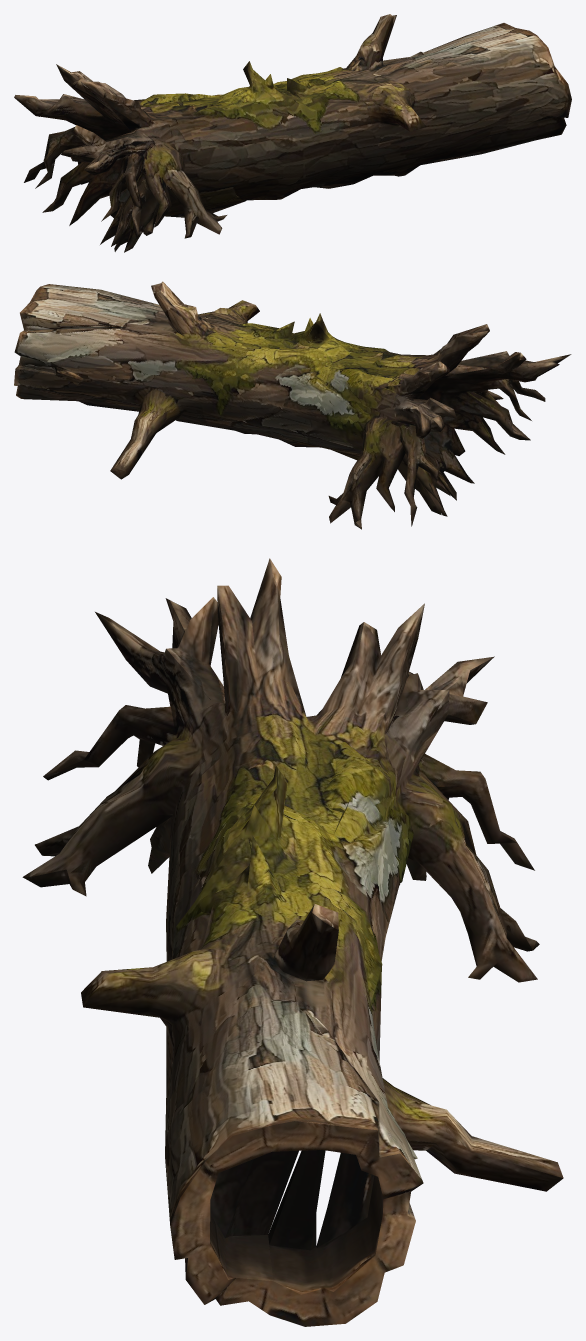
The model's file is act1_kit_v1_hollow_trunk.glb.
The picture shows the model from 3 angles, top to bottom: view 1: azimuth 30°, elevation 25°; view 2: azimuth 150°, elevation 25°; view 3: azimuth 270°, elevation 25°; orthographic projection. The views are drawn at different scales.
Parts seen in each view (by area): view 1: A04_5_hollow_trunk; view 2: A04_5_hollow_trunk; view 3: A04_5_hollow_trunk.
Boxes of the visible parts, left/top/right/bottom form: A04_5_hollow_trunk: left=14, top=14, right=571, bottom=252; A04_5_hollow_trunk: left=14, top=281, right=571, bottom=529; A04_5_hollow_trunk: left=22, top=558, right=563, bottom=1326.
Bounding box in the file's own units: 1 × 0.327 × 0.4672.
Materials: 1 (1 with a texture image).
